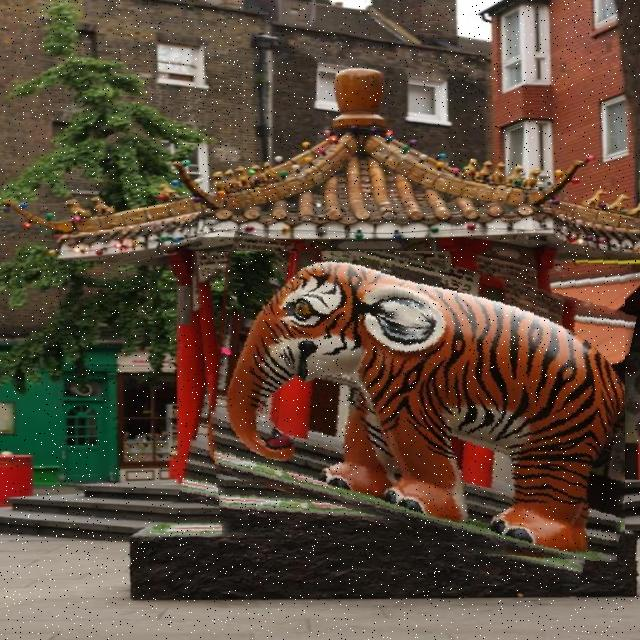elephant: (190, 251, 625, 565)
